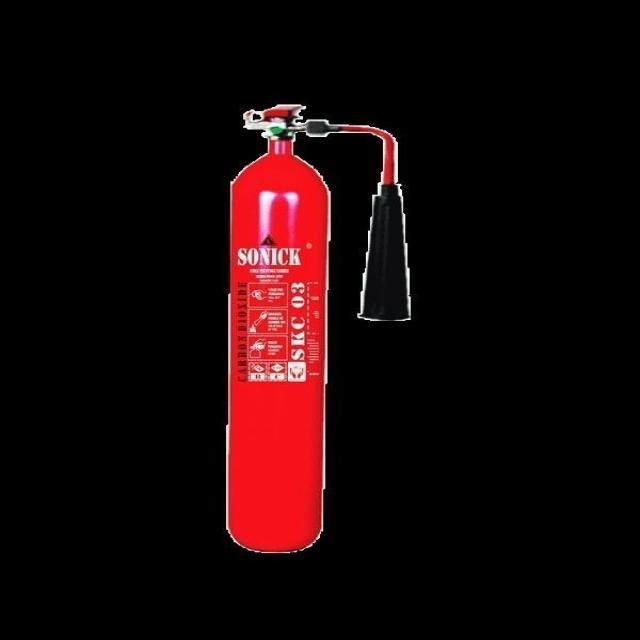fire_extinguisher: (207, 100, 419, 556)
